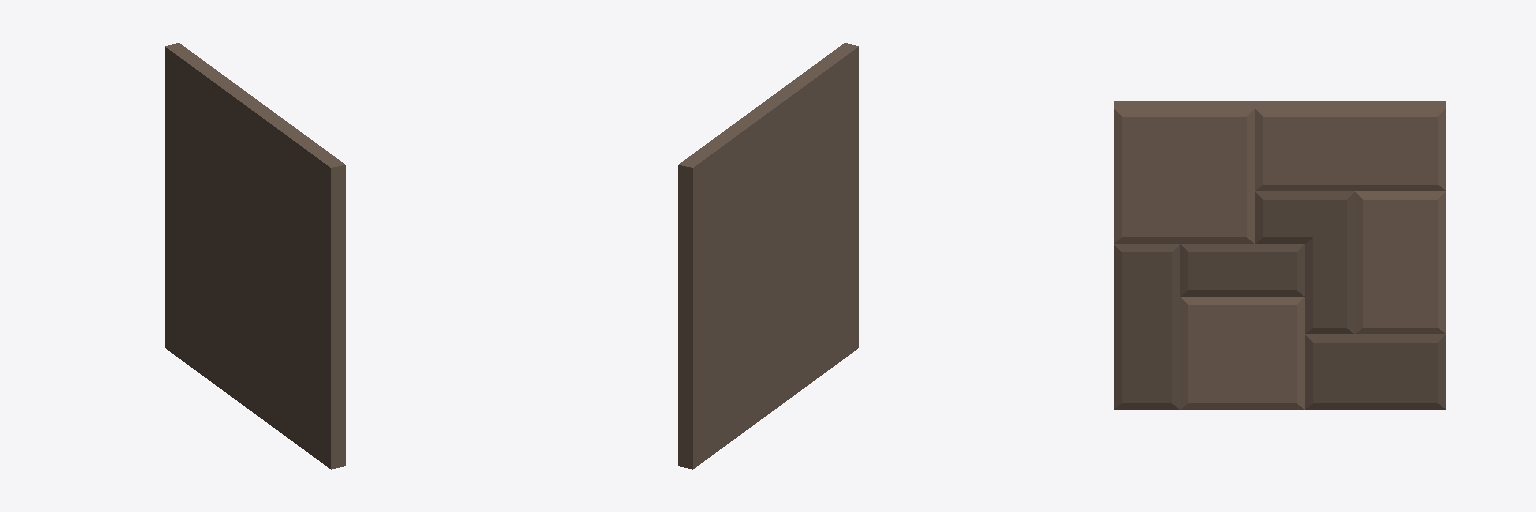
The model's file is Stone_Wall_5.obj.
3 views of the same model, side by side, from view 1: azimuth 30°, elevation 25°; view 2: azimuth 150°, elevation 25°; view 3: azimuth 270°, elevation 25° (orthographic).
Parts seen in each view (by area): view 1: object1; view 2: object1; view 3: object1.
Part boxes in pixels (x1,y1,x2,y2): object1: (165, 43, 345, 469); object1: (678, 43, 858, 469); object1: (1114, 101, 1445, 409).
Size of the model in its own units: 0.0563 by 1 by 1.